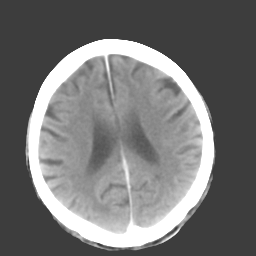ischemic: (141, 111, 162, 141)
